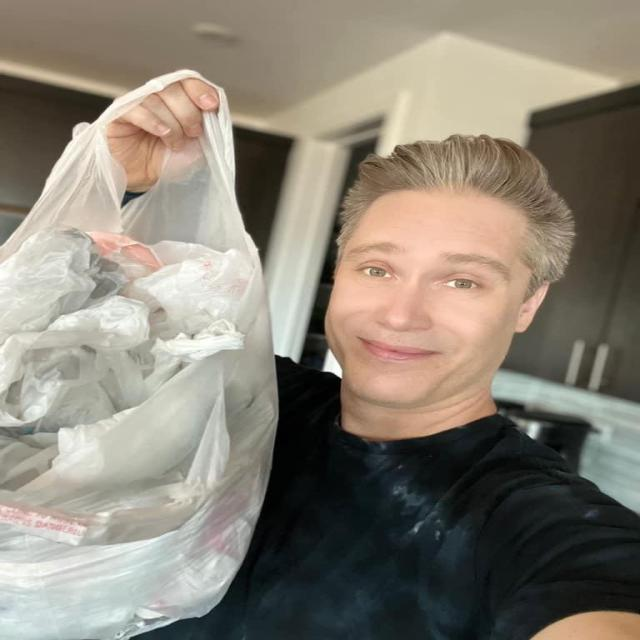Plastic_Bag: (0, 63, 278, 640)
